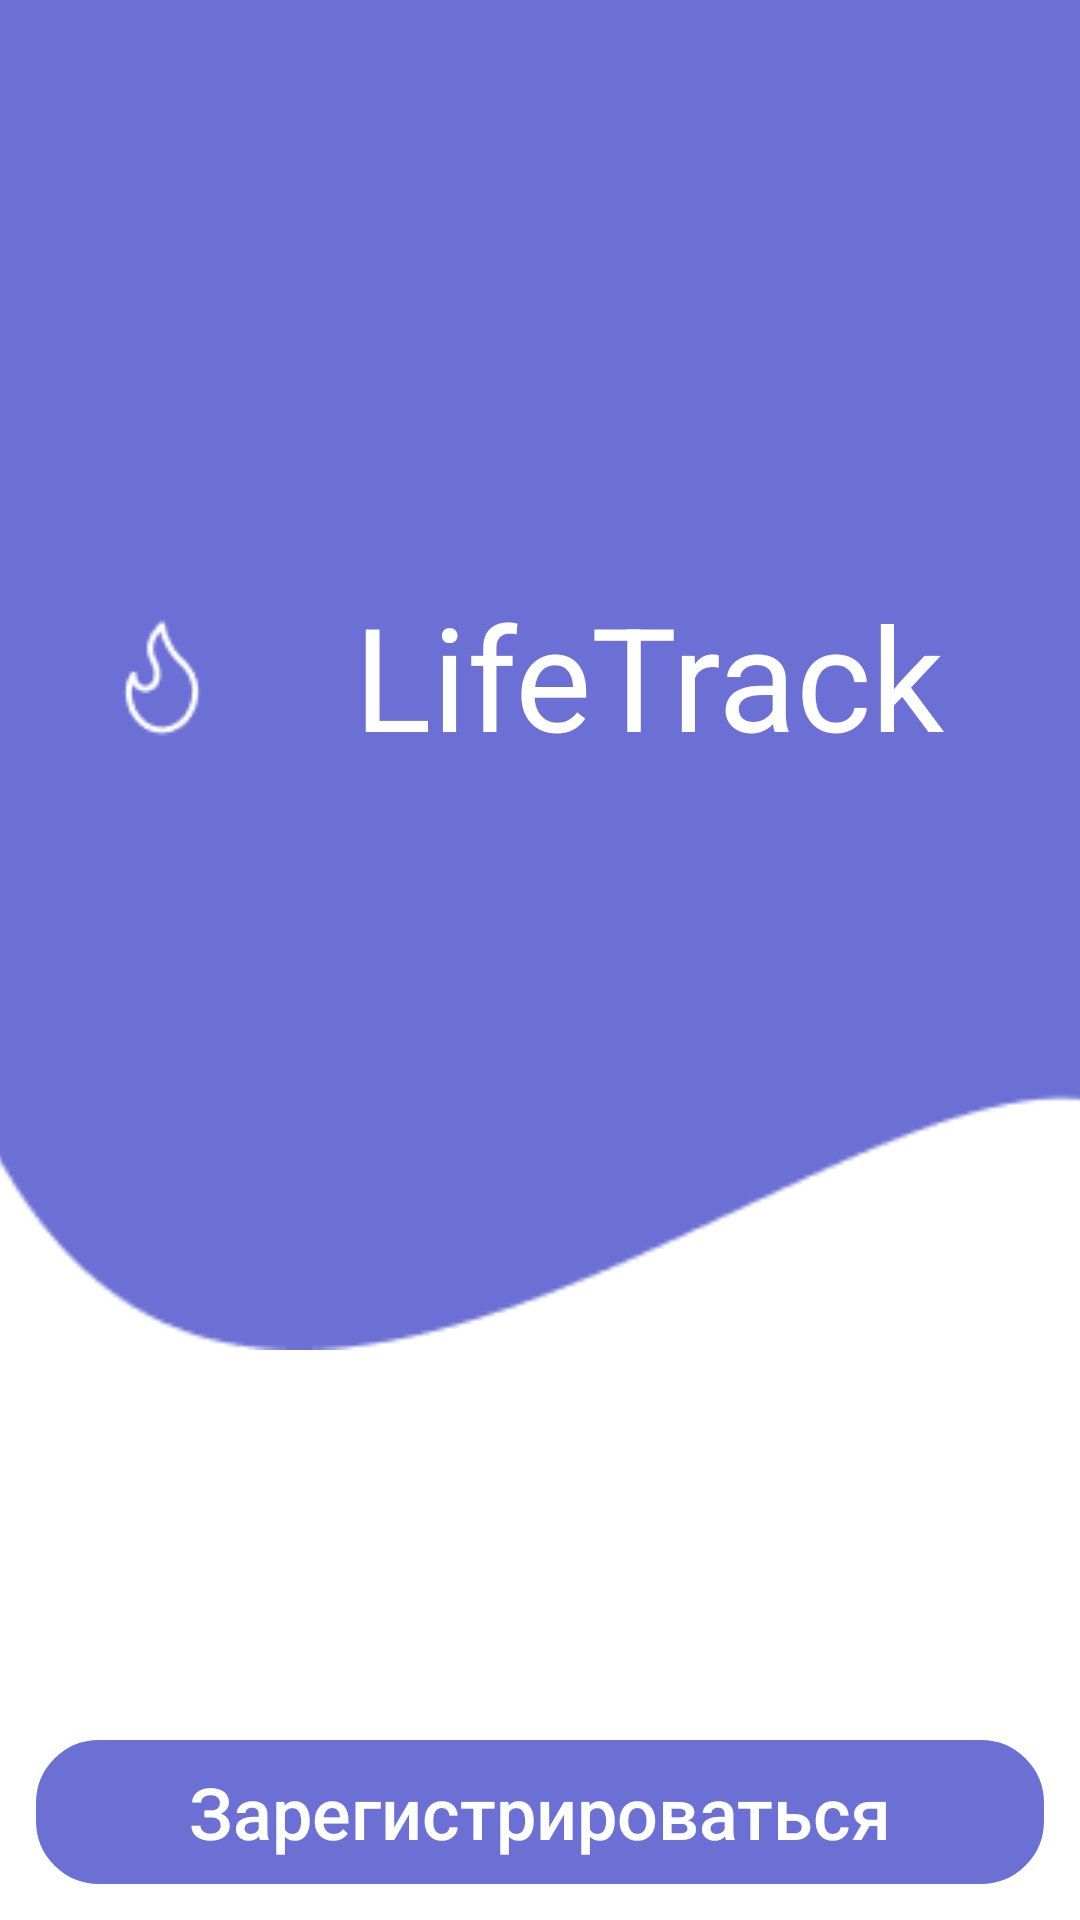

Where icons sit on this 1080px x 1920px app screen, as (x1=x1, y1=y1, x2=x2, y2=y2):
flame: (x1=125, y1=621, x2=199, y2=735)
